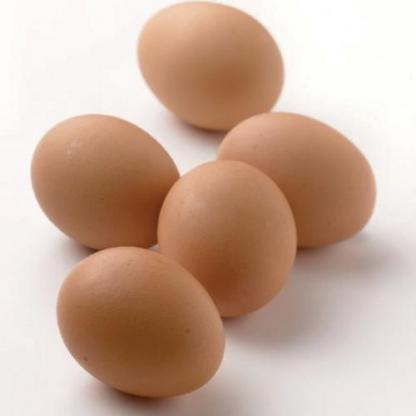egg: (54, 244, 228, 401), (218, 109, 378, 252), (159, 158, 299, 320), (30, 114, 183, 252), (134, 1, 288, 133)
